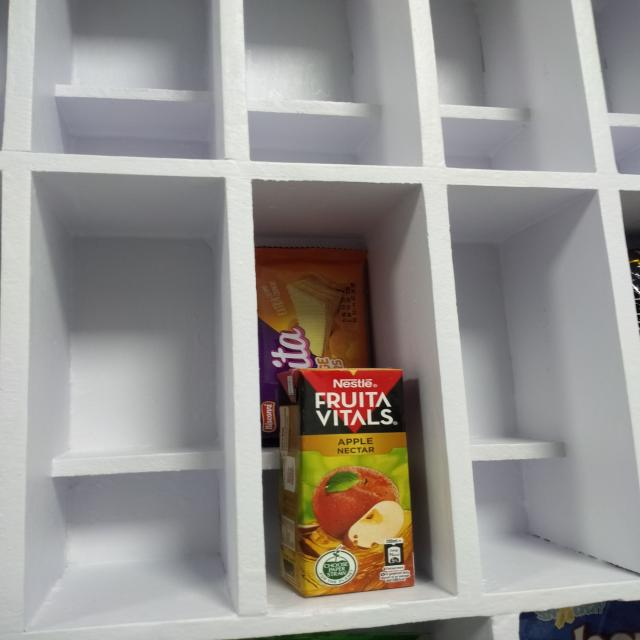Plastic: (278, 370, 416, 596), (255, 248, 374, 366)
